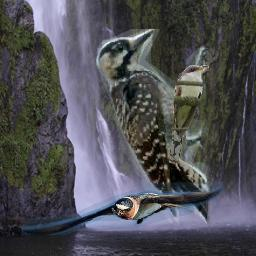Cuckoo: (169, 65, 209, 164)
Swallow: (21, 182, 223, 235)
Woodpecker: (95, 29, 221, 227)
